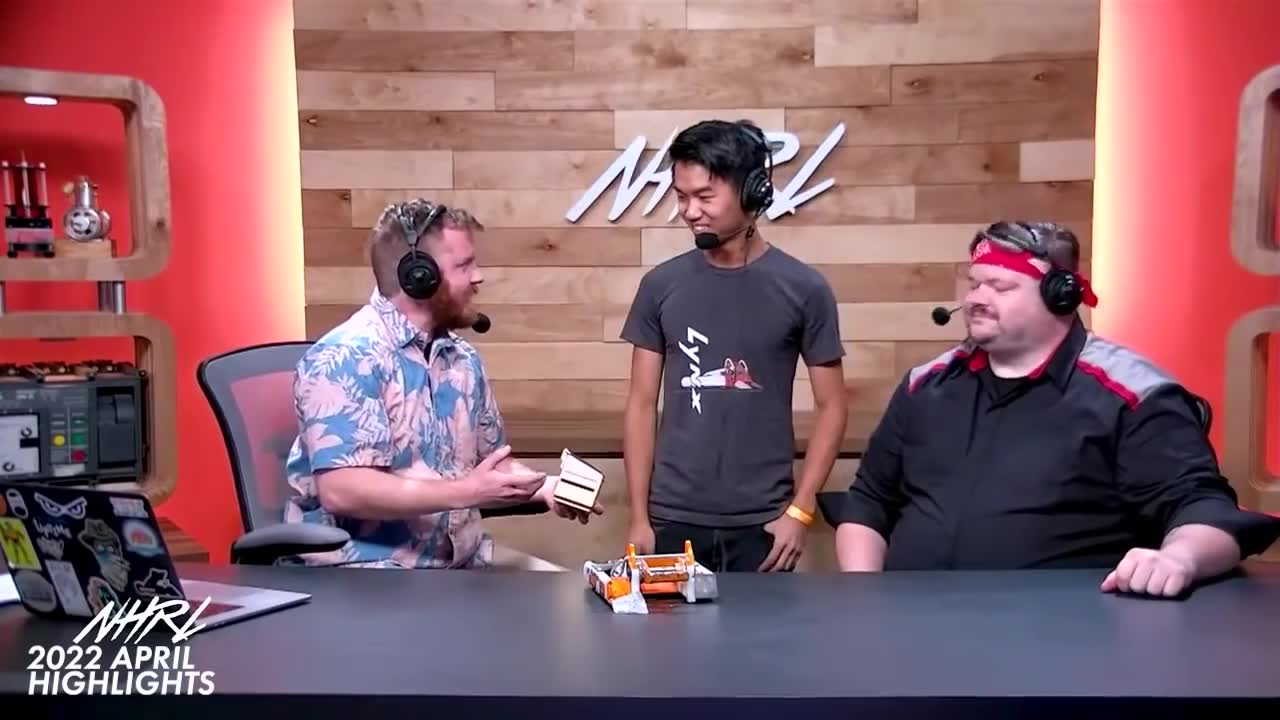combatbot: (585, 542, 720, 614)
